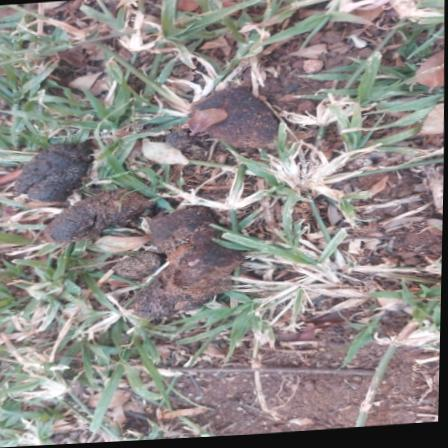dog-poop: (14, 125, 222, 335), (190, 88, 277, 164)
